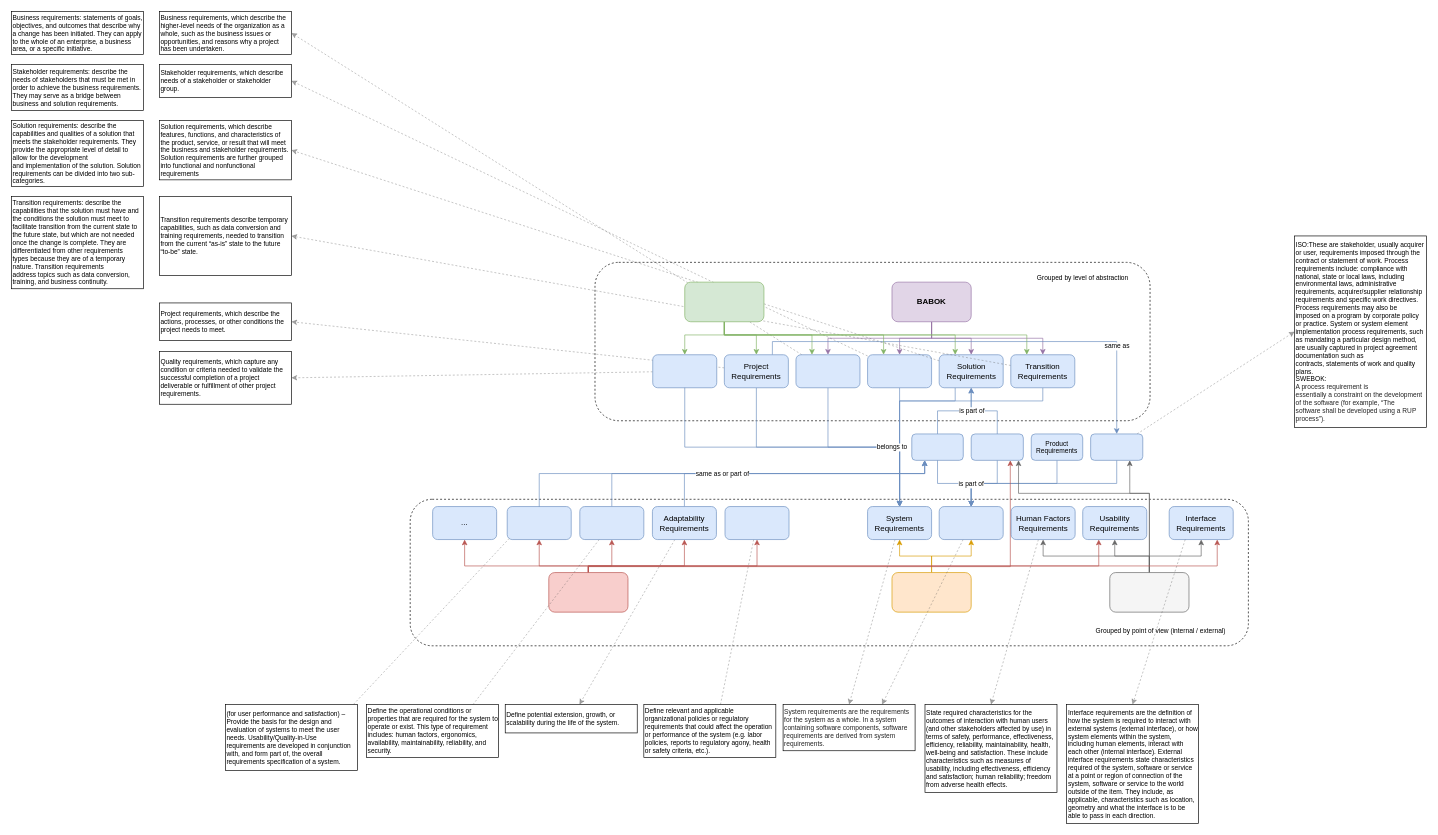
This 1438x835 diagram has some shape labels left out. The shapes that lost their labels are listed below. From the top down, each one's centre as x and y in pixels, then its label:
At point (724, 301): "PMBOK".
At point (684, 371): "Quality Requirements".
At point (827, 371): "Business Requirements".
At point (899, 371): "Stakeholder Requirements".
At point (937, 446): "Non-Functional Requirements".
At point (997, 446): "Functional Requirements".
At point (1116, 446): "Process Requirements".
At point (539, 523): "Performance Requirements".
At point (611, 523): "Operational Requirements".
At point (756, 523): "Policies and Regulations".
At point (971, 523): "Software Requirements".
At point (588, 592): "SEBOK".
At point (931, 592): "SWEBOK".
At point (1149, 592): "ISO 29148".
